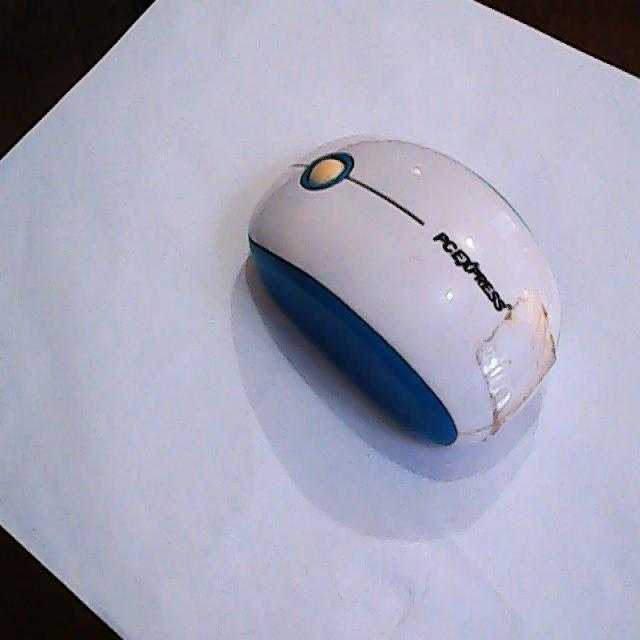Mouse: (245, 130, 560, 454)
